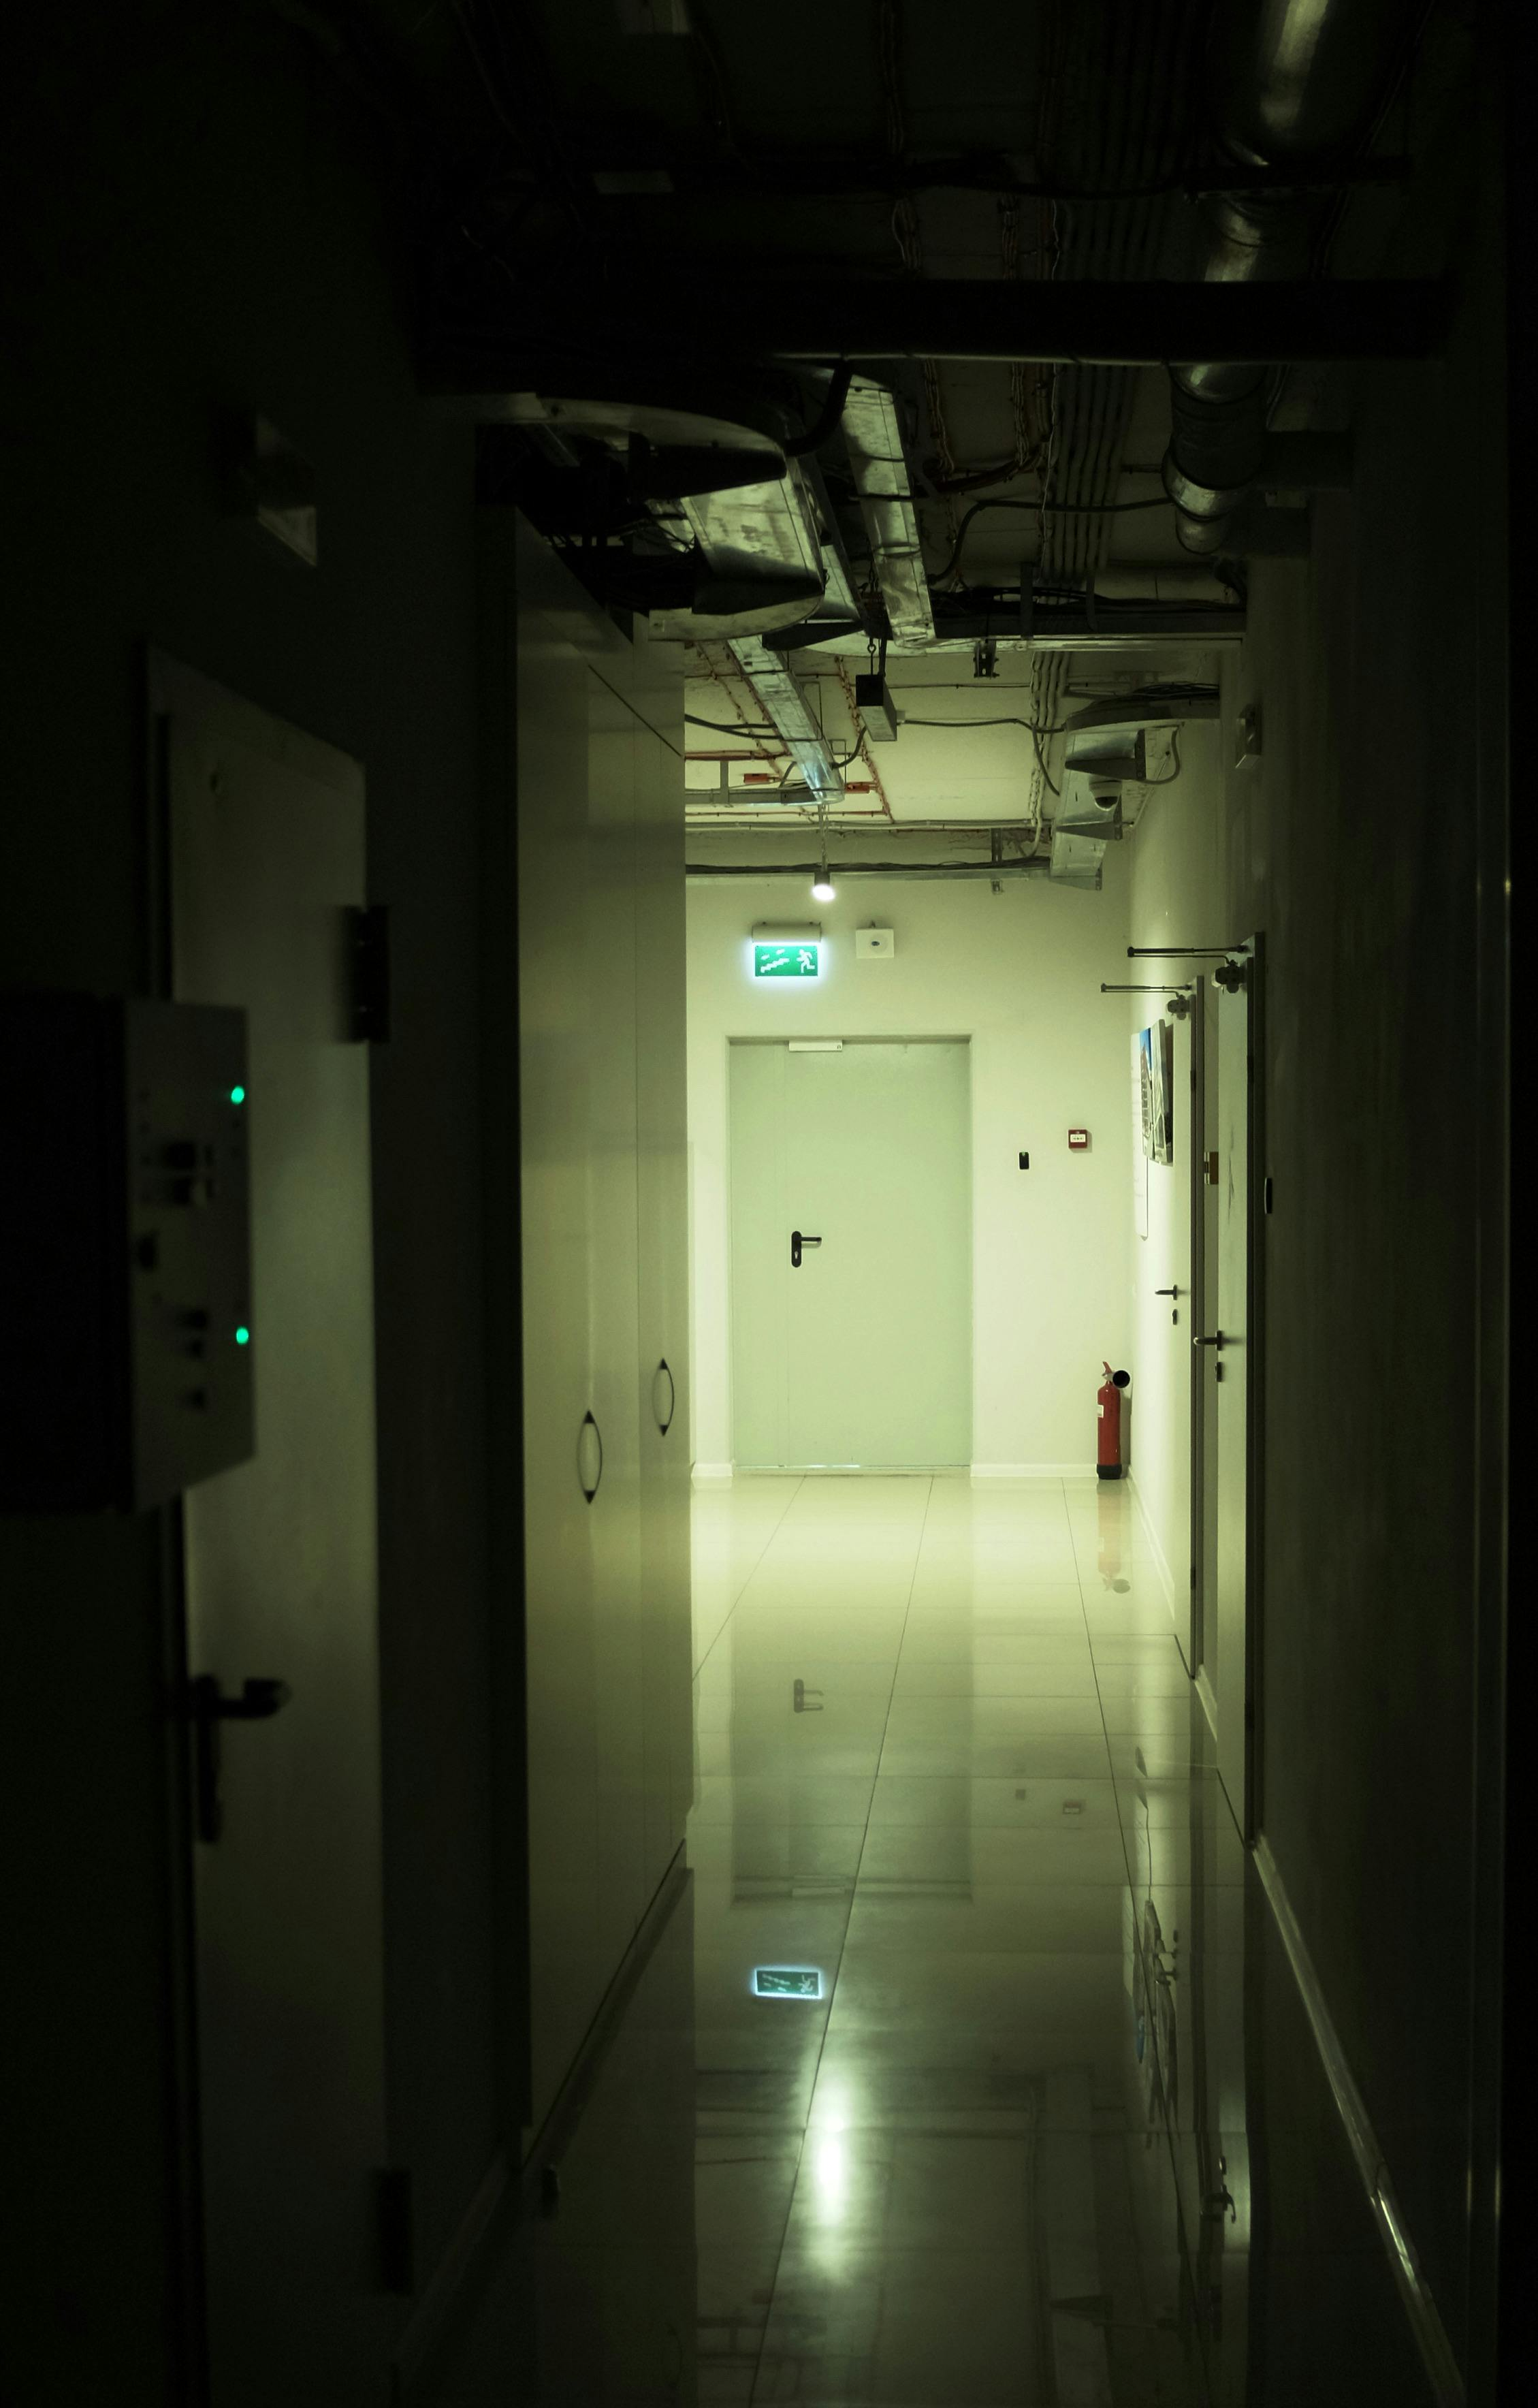extintor: (1084, 1351, 1142, 1488)
